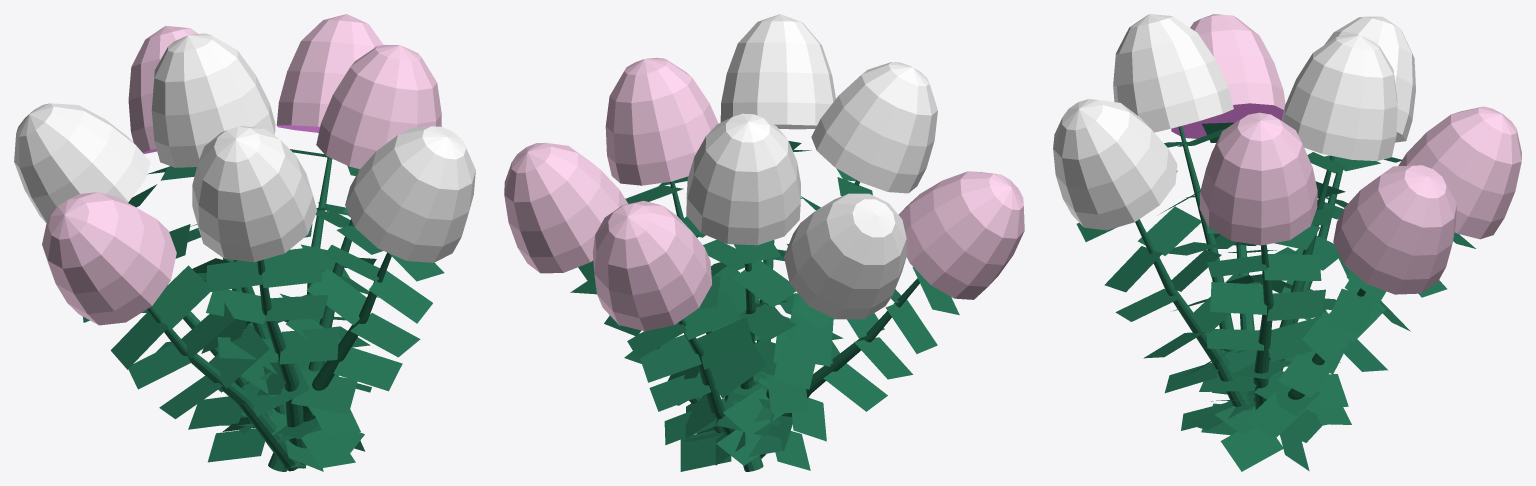
3 renders of one model, left to right at view 1: azimuth 30°, elevation 25°; view 2: azimuth 150°, elevation 25°; view 3: azimuth 270°, elevation 25°, orthographic. The views are drawn at different scales.
Visible parts, largest first — view 1: sphere (×8), plane (×30), cone (×5); view 2: sphere (×8), plane (×27), cone (×2); view 3: sphere (×8), plane (×30), cone (×4).
Boxes of the visible parts, x1,y1,x2,y2 form: sphere (×8): (14,14,475,325); plane (×30): (111,225,444,471); cone (×5): (147,157,391,471); sphere (×8): (504,14,1024,331); plane (×27): (627,239,959,471); cone (×2): (678,278,919,458); sphere (×8): (1053,14,1521,294); plane (×30): (1104,206,1387,471); cone (×4): (1135,126,1334,410).
Size of the model in its own units: 1.58 by 1.43 by 1.55.
1 material, 1 textured.
